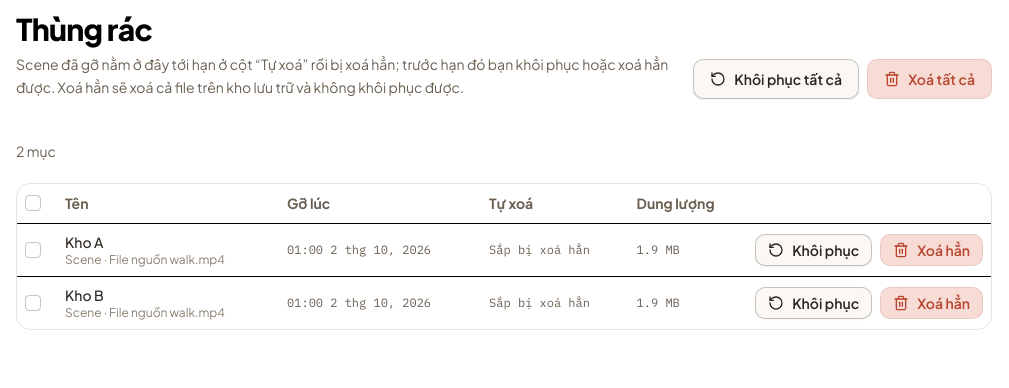
Test case: TrashPage › chọn tất cả và khôi phục tất cả; mục lỗi được nêu tên kèm lý do
What coordinates should you click on to do the following:
click the checkbox named "Chọn tất cả"
I would click on:
 (33, 203)
Its box is 25,195 -> 41,211.
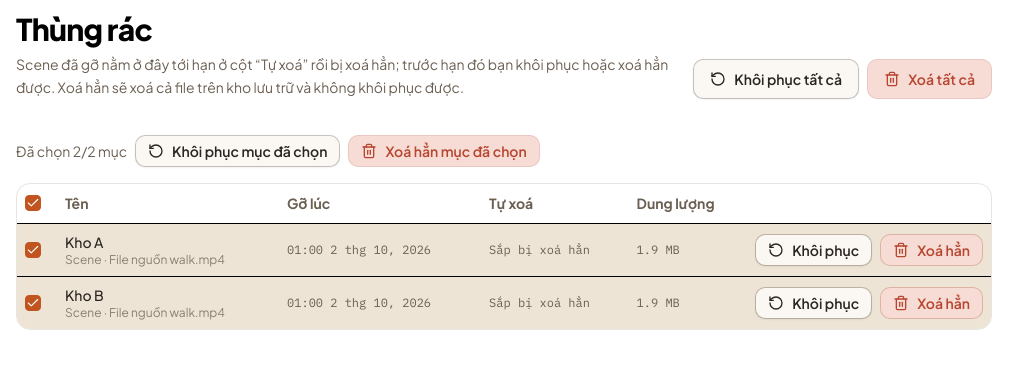
Expected: the text "Đã chọn 2/2 mục" is shown, 16,140 -> 127,160
What coordinates should you click on to do the following:
click the button "Khôi phục tất cả"
I would click on:
 (776, 78)
Its box is 693,58 -> 859,98.
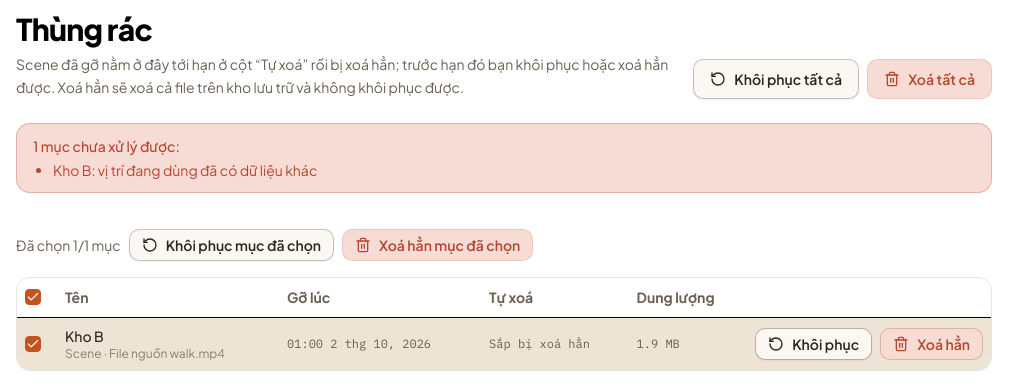
Expected: the button with aria-label "Khôi phục Kho B" is shown, 755,328 -> 872,360
Expected: the list item "Kho B: vị trí đang dùng đã có dữ liệu khác" is shown, 53,160 -> 317,180
